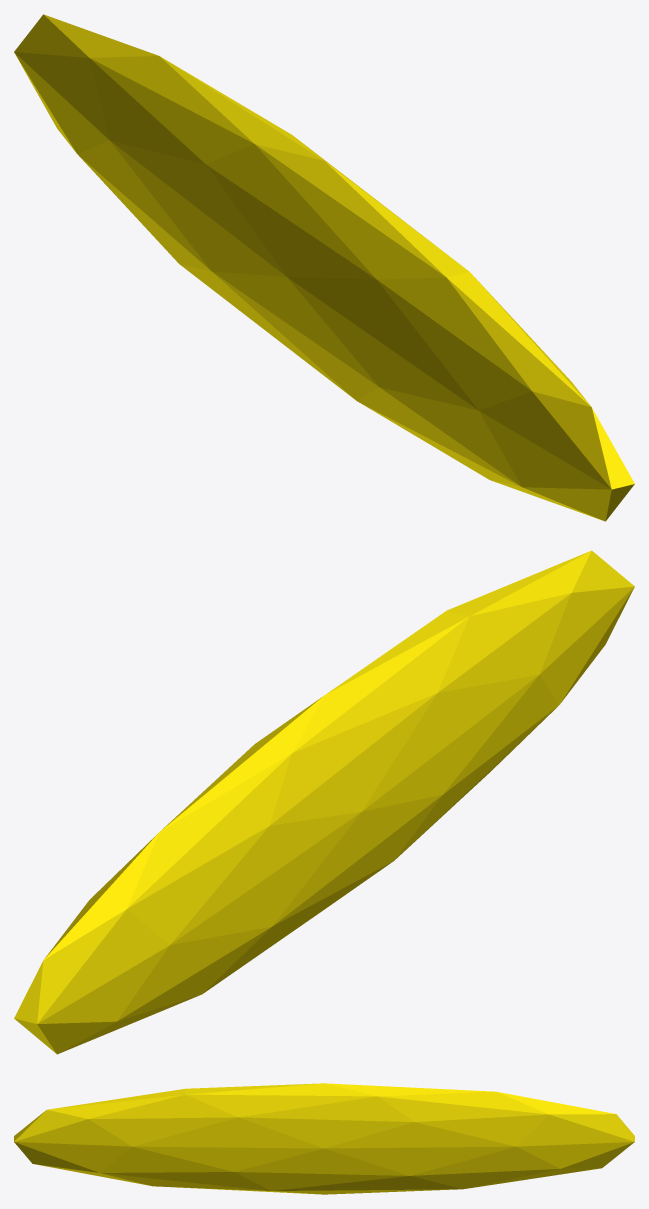
The picture shows the model from 3 angles, top to bottom: view 1: azimuth 30°, elevation 25°; view 2: azimuth 150°, elevation 25°; view 3: azimuth 270°, elevation 25°; orthographic projection. The views are drawn at different scales.
Parts seen in each view (by area): view 1: tmp_export_Cube.068; view 2: tmp_export_Cube.068; view 3: tmp_export_Cube.068.
Boxes of the visible parts, bbox=[...] form: tmp_export_Cube.068: bbox=[14, 14, 634, 521]; tmp_export_Cube.068: bbox=[14, 550, 634, 1054]; tmp_export_Cube.068: bbox=[14, 1083, 634, 1194].
Bounding box in the file's own units: 0.3625 × 5 × 0.9897.
